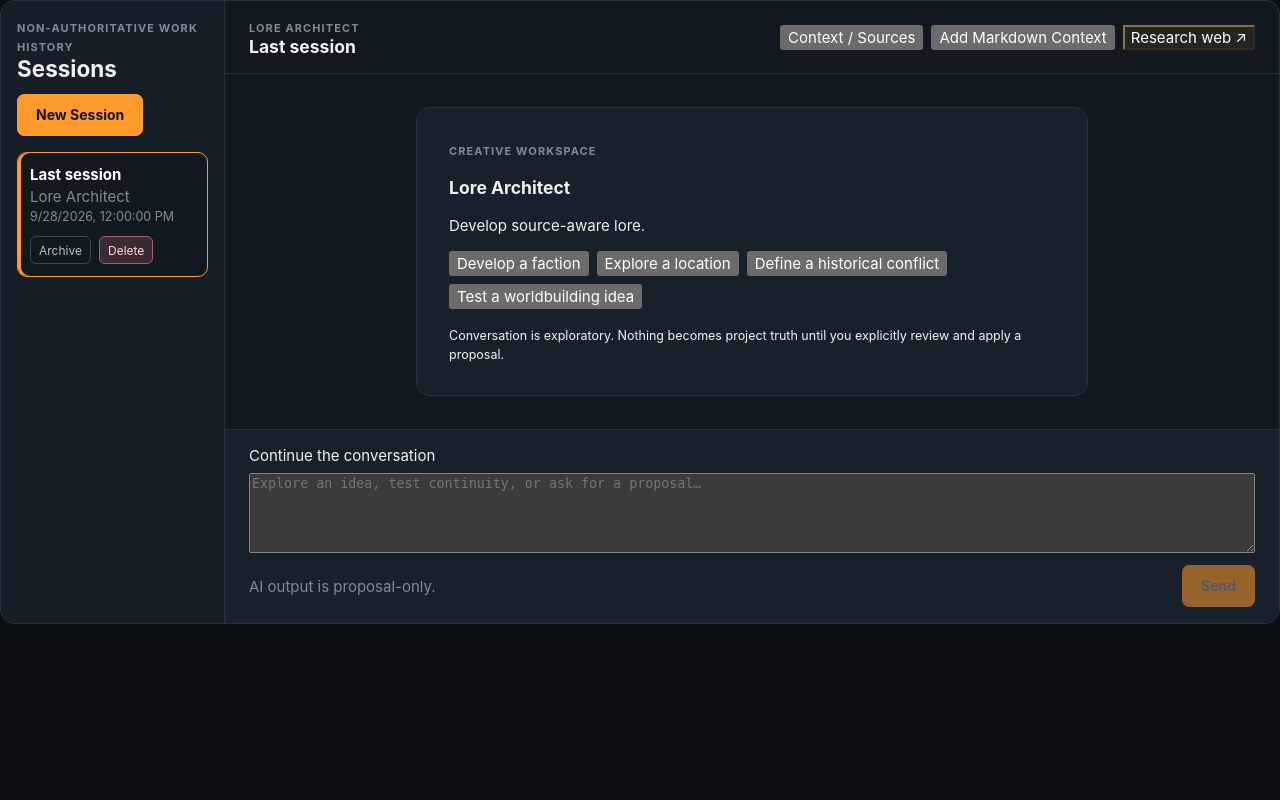
Scenario: Writers' Room › returns to the empty state after deleting the last session and Escape cancels safely
Check: the heading "Last session" is shown, box [249, 36, 360, 57]
Click the button with aria-label "Delete Last session".
click(126, 250)  # box [99, 236, 153, 264]
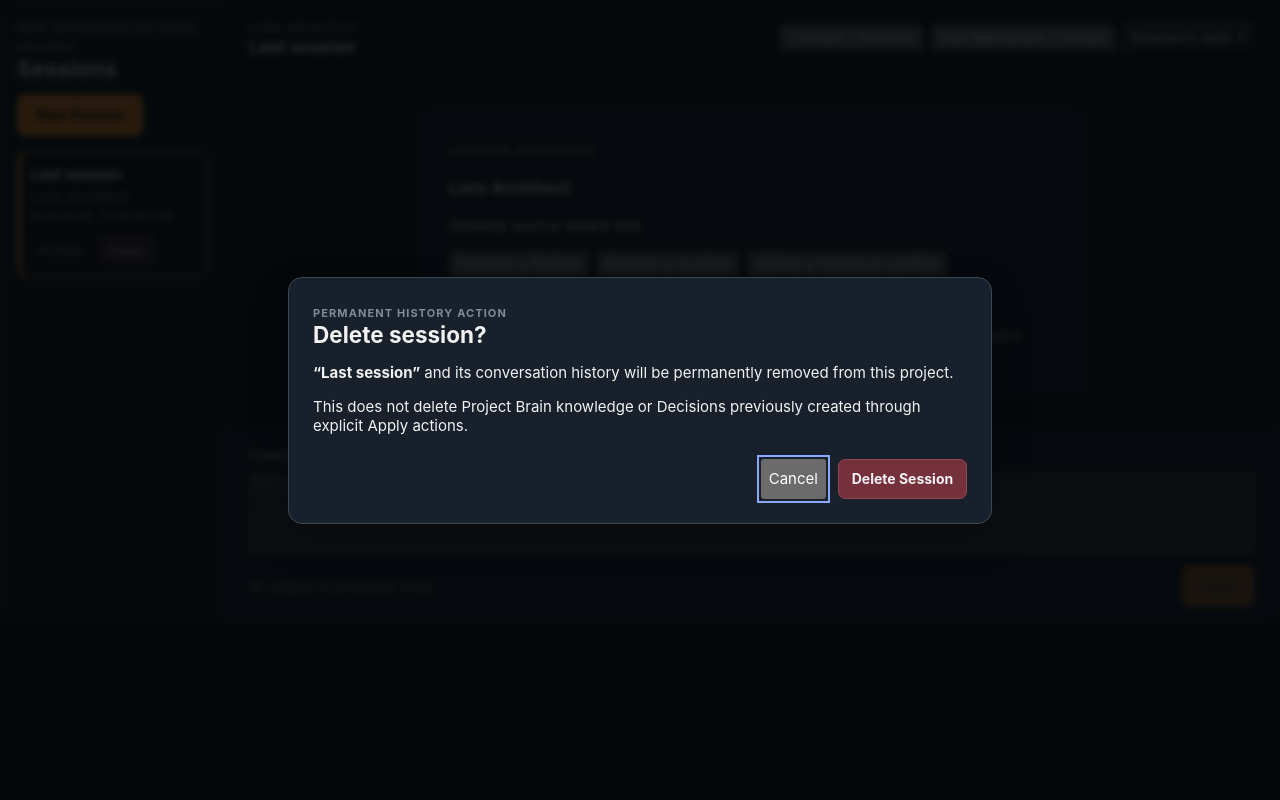
Press Escape
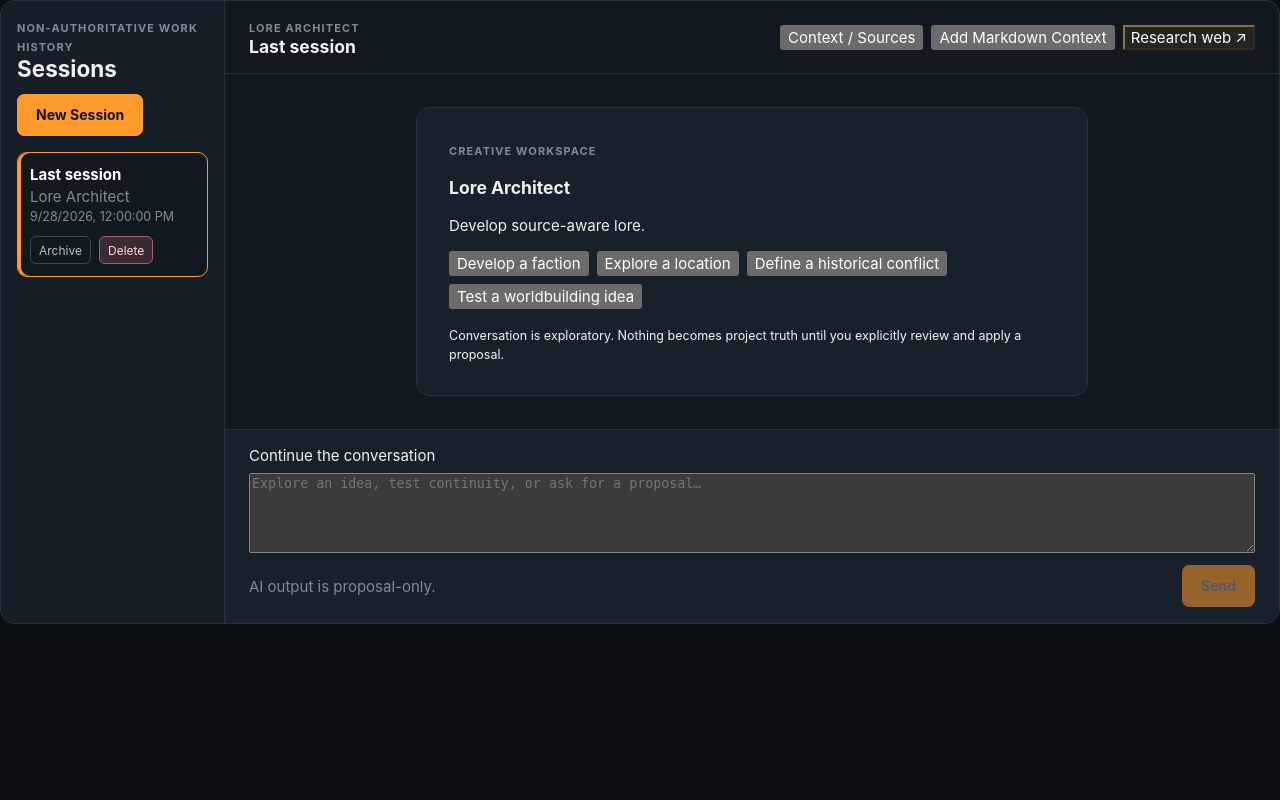
Check: the heading "Delete session?" is gone
Click the button with aria-label "Delete Last session".
click(126, 250)  # box [99, 236, 153, 264]
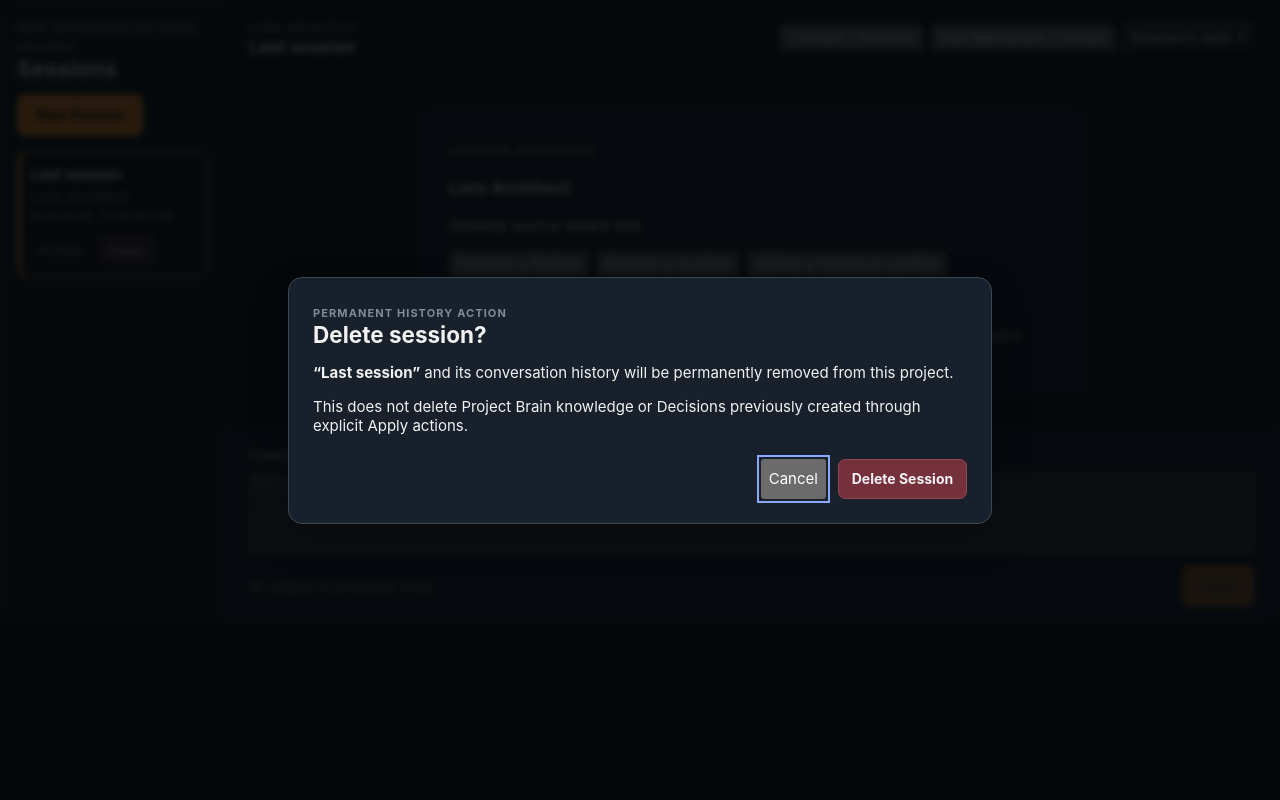
Click the button "Delete Session".
click(902, 478)  # box [838, 458, 967, 498]
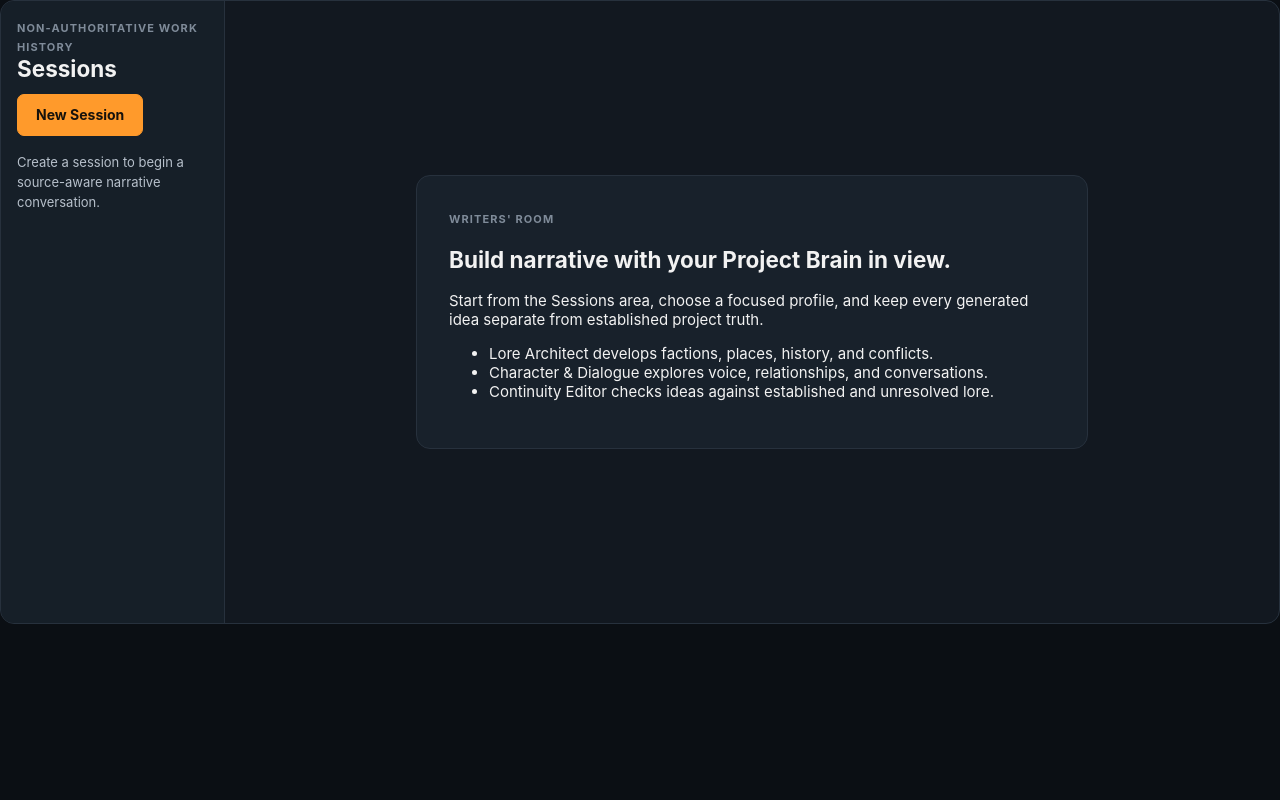
Check: the heading "Build narrative with your Project Brain in view." is shown, box [449, 246, 951, 272]
